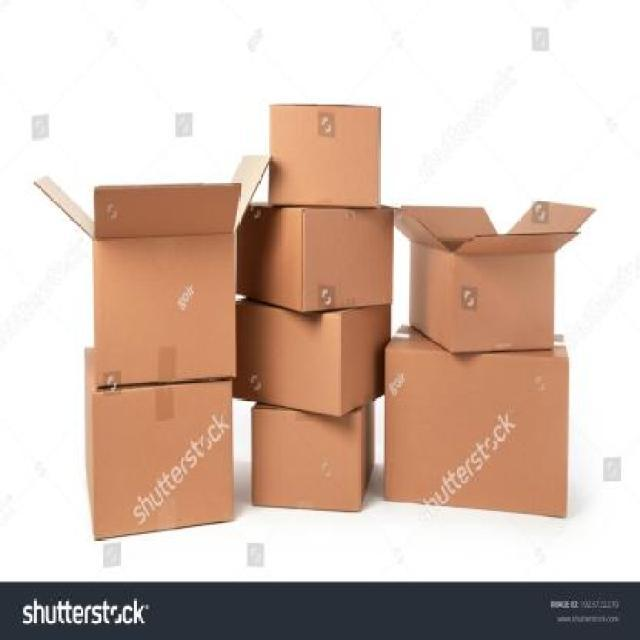BoxFace: (384, 348, 570, 518), (93, 233, 234, 387), (95, 382, 232, 540), (234, 306, 340, 414), (252, 408, 362, 512), (269, 104, 380, 207), (453, 251, 555, 354), (303, 207, 394, 313)
